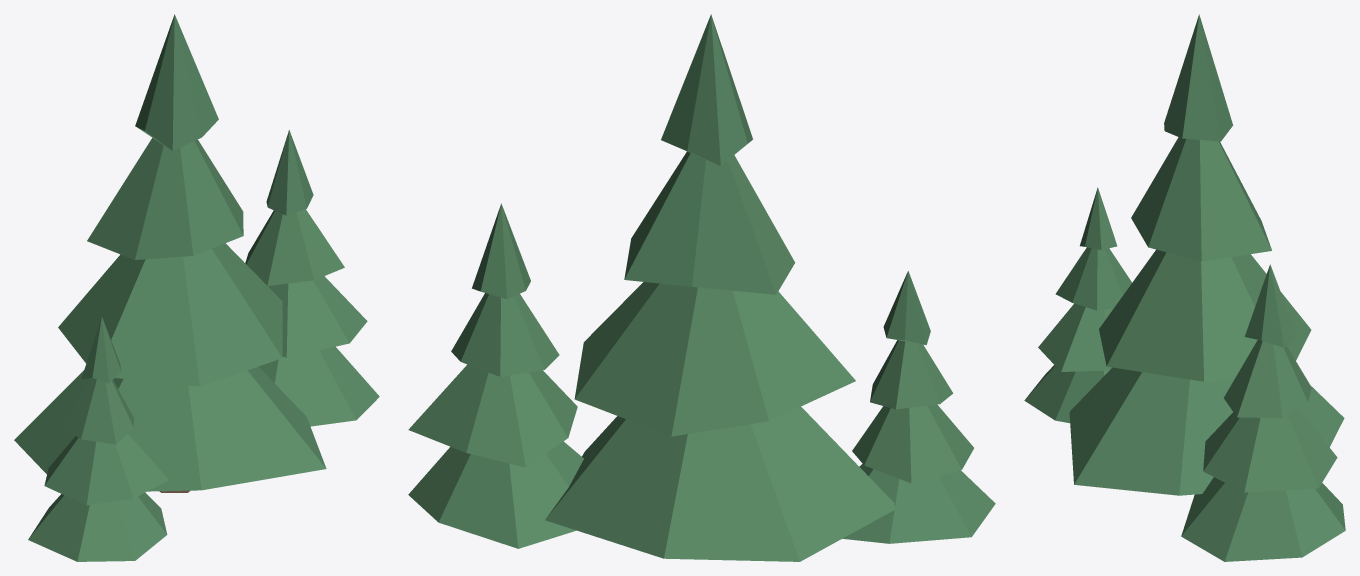
The model's file is pine.glb.
3 views of the same model, side by side, from view 1: azimuth 30°, elevation 25°; view 2: azimuth 150°, elevation 25°; view 3: azimuth 270°, elevation 25° (orthographic). The views are drawn at different scales.
Visible parts, largest first — view 1: pine; view 2: pine; view 3: pine.
Part boxes in pixels (<box>): pine: <box>14,14,379,561</box>; pine: <box>408,14,995,561</box>; pine: <box>1024,14,1345,561</box>.
Size of the model in its own units: 2.3 by 2.53 by 1.58.
